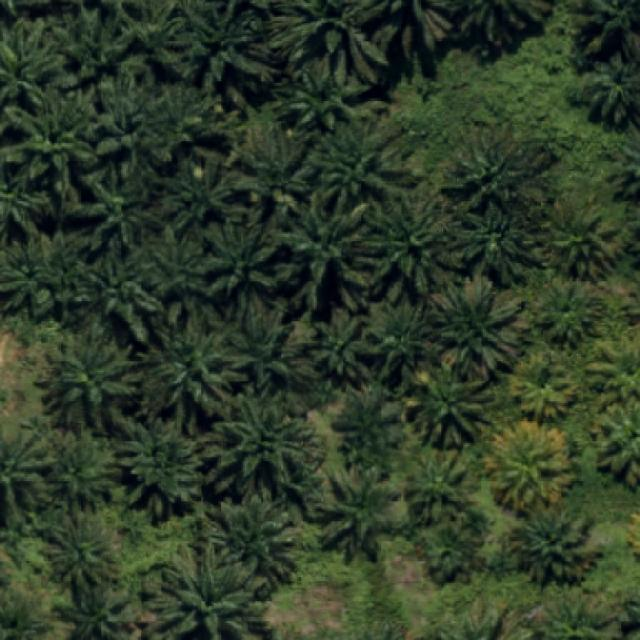Kelapa_Sawit: (138, 309, 256, 433), (202, 391, 320, 504), (188, 490, 300, 602), (37, 318, 140, 433), (4, 78, 98, 198), (280, 186, 369, 312), (178, 1, 282, 108), (71, 236, 164, 344), (312, 458, 403, 567), (362, 196, 449, 306), (78, 68, 176, 164), (484, 419, 576, 521), (118, 408, 204, 517), (432, 274, 522, 378), (67, 164, 165, 250), (308, 123, 399, 214), (507, 503, 604, 588), (459, 196, 552, 284), (410, 359, 496, 448), (52, 1, 140, 87), (279, 49, 370, 132), (41, 509, 118, 606), (330, 381, 408, 472), (138, 221, 214, 313), (541, 198, 622, 284), (200, 212, 278, 300), (150, 156, 241, 230), (228, 300, 302, 388), (53, 429, 119, 525), (452, 133, 530, 212), (368, 297, 440, 381), (239, 123, 319, 195), (531, 278, 606, 354), (306, 307, 380, 381), (508, 350, 578, 425), (403, 446, 469, 525), (150, 82, 218, 143), (421, 516, 479, 587)
